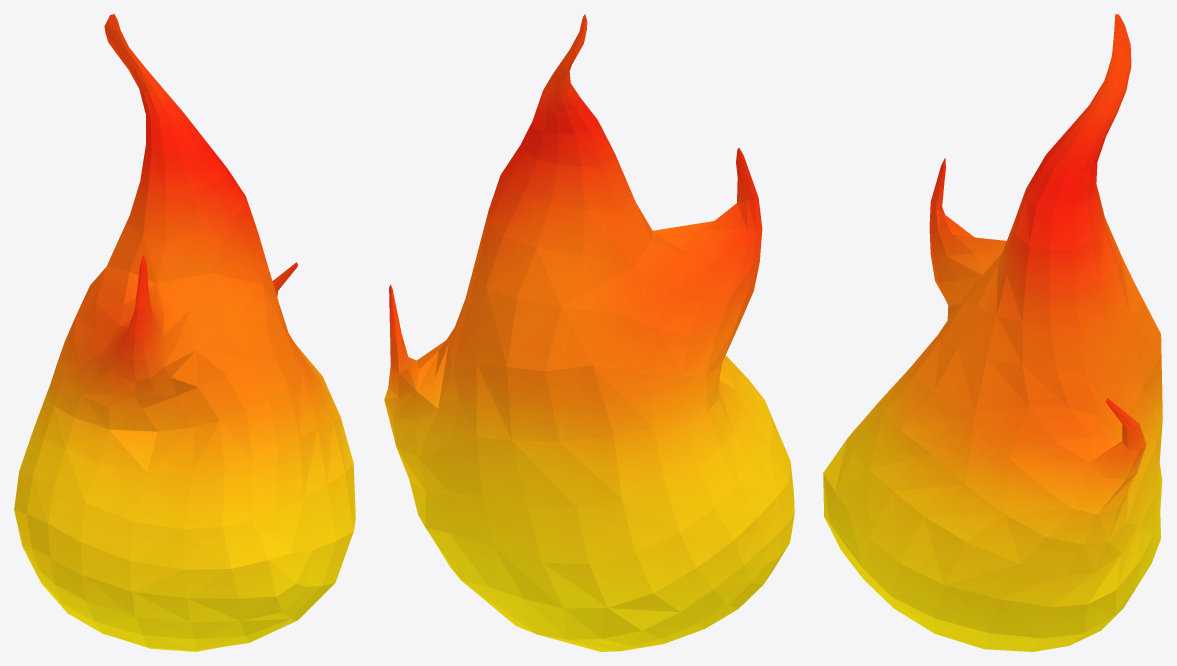
File: fire.glb
3 views of the same model, side by side, from view 1: azimuth 30°, elevation 25°; view 2: azimuth 150°, elevation 25°; view 3: azimuth 270°, elevation 25° (orthographic). The views are drawn at different scales.
Visible parts, largest first — view 1: 0; view 2: 0; view 3: 0.
Boxes of the visible parts, x1,y1,x2,y2 form: 0: (14, 14, 355, 651); 0: (384, 14, 794, 651); 0: (823, 14, 1162, 651).
Bounding box in the file's own units: 0.2994 × 0.5446 × 0.2772.
Materials: 1 (1 with a texture image).
